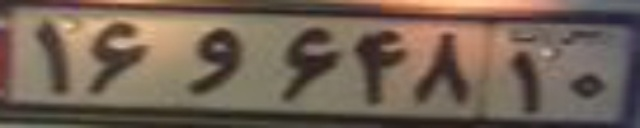0: (568, 73, 607, 99)
1: (35, 18, 66, 93), (507, 50, 542, 112)
4: (354, 27, 404, 104)
6: (82, 21, 147, 95), (278, 28, 340, 101)
8: (415, 32, 470, 104)
vav: (186, 28, 242, 94)
